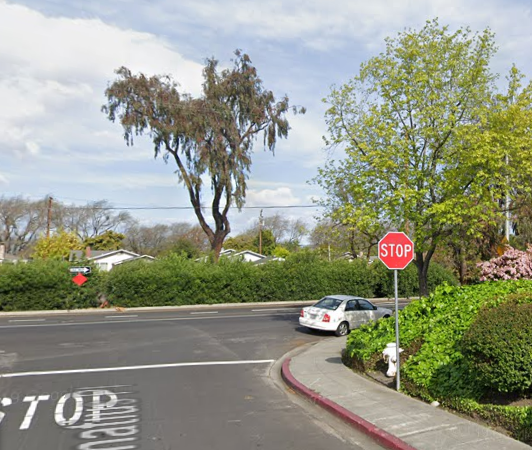stop_sign: (378, 232, 414, 269)
